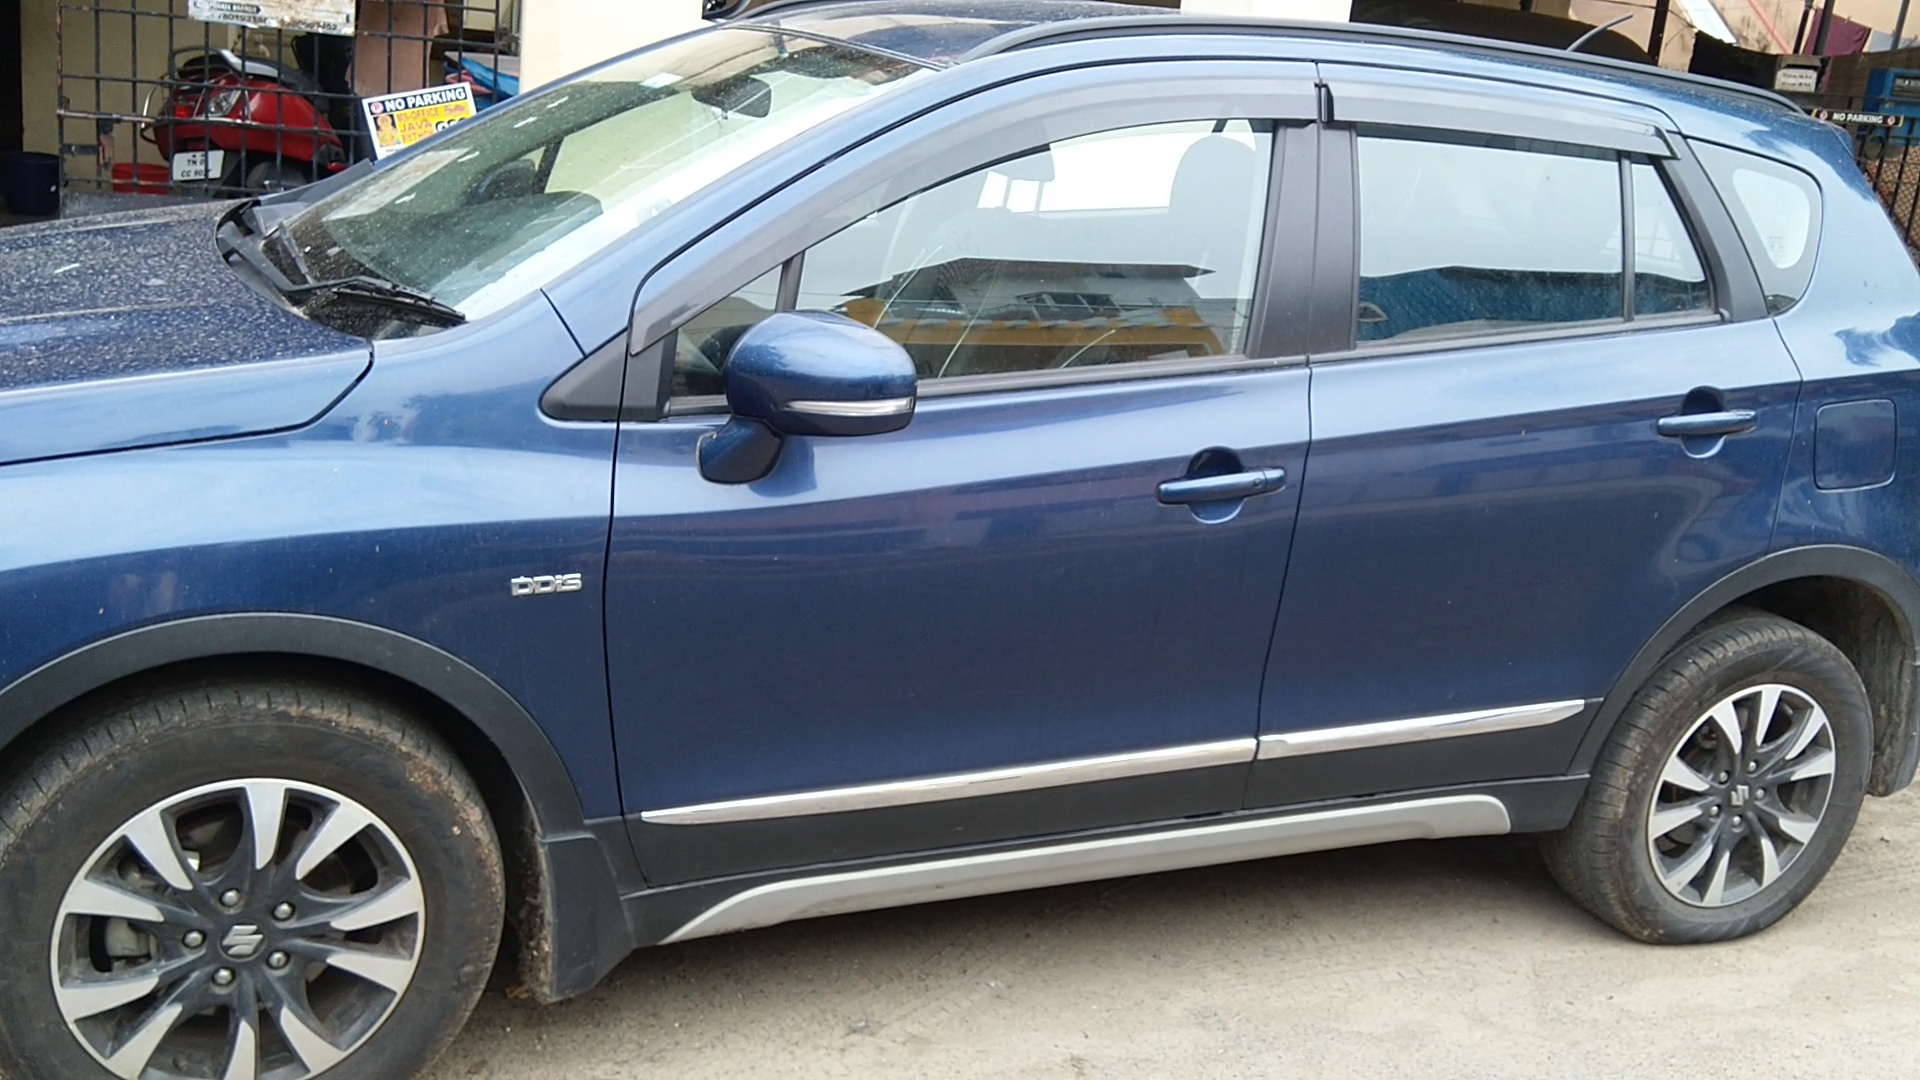alloy_wheel: (1, 678, 502, 1080), (1571, 611, 1882, 949)
ovr_mirror: (698, 299, 926, 491)
